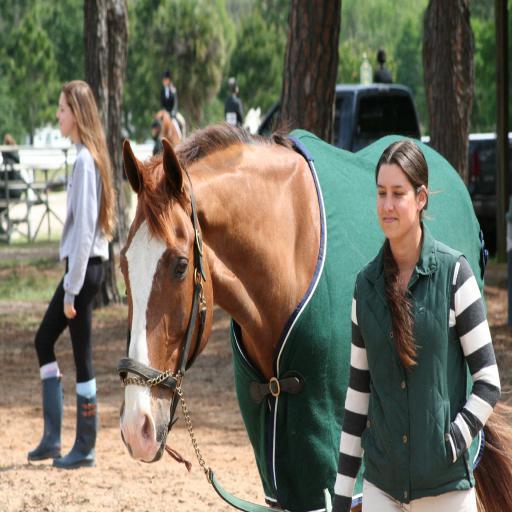horse: (118, 122, 492, 512)
